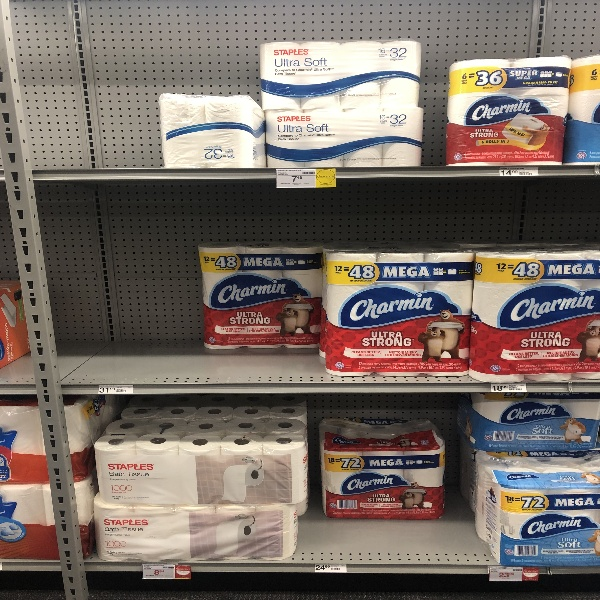void: (61, 190, 187, 379), (28, 1, 159, 167)
